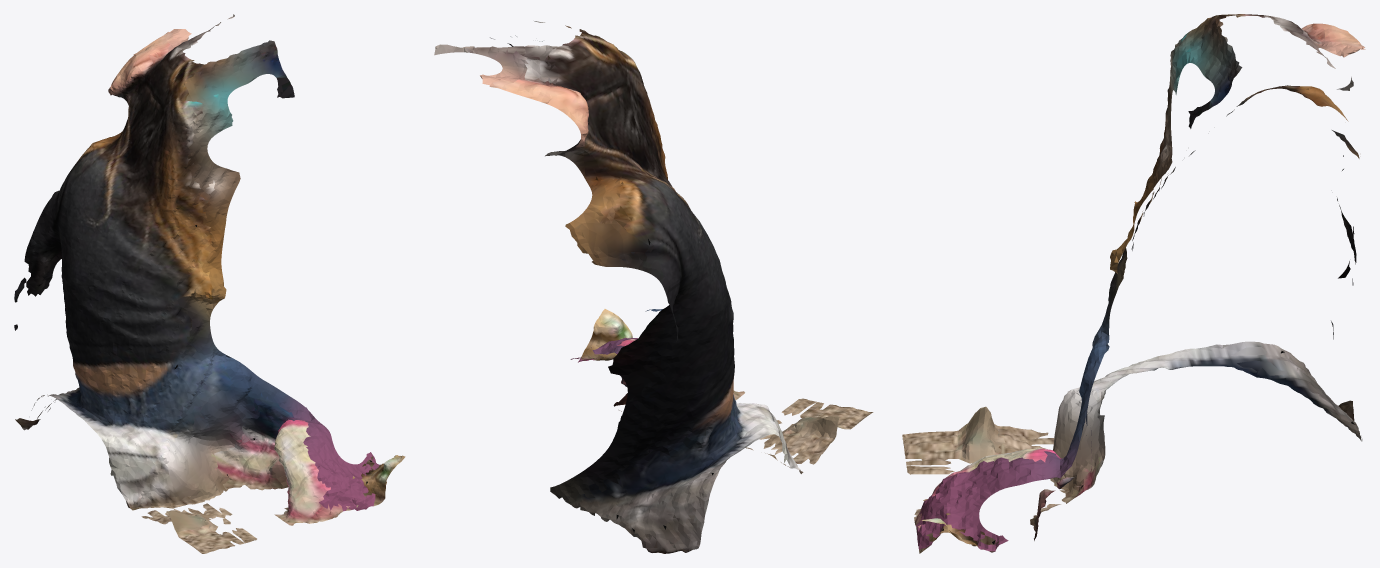
The picture shows the model from 3 angles, left to right: view 1: azimuth 30°, elevation 25°; view 2: azimuth 150°, elevation 25°; view 3: azimuth 270°, elevation 25°; orthographic projection. The views are drawn at different scales.
Bounding box in the file's own units: 0.5545 × 0.8605 × 0.7286.
Materials: 1 (1 with a texture image).
